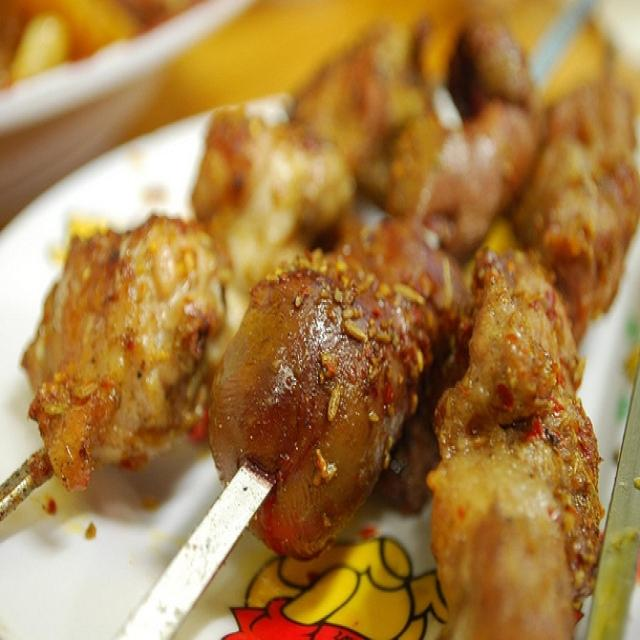烧串烤肉: (5, 12, 630, 637)
